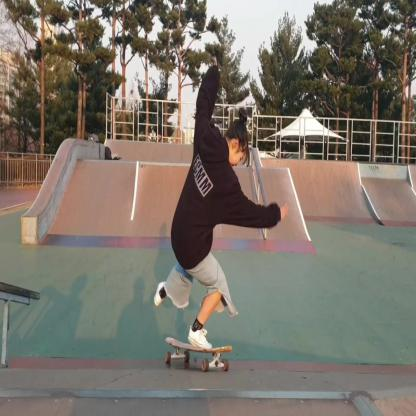Fall_Down: (152, 54, 294, 355)
